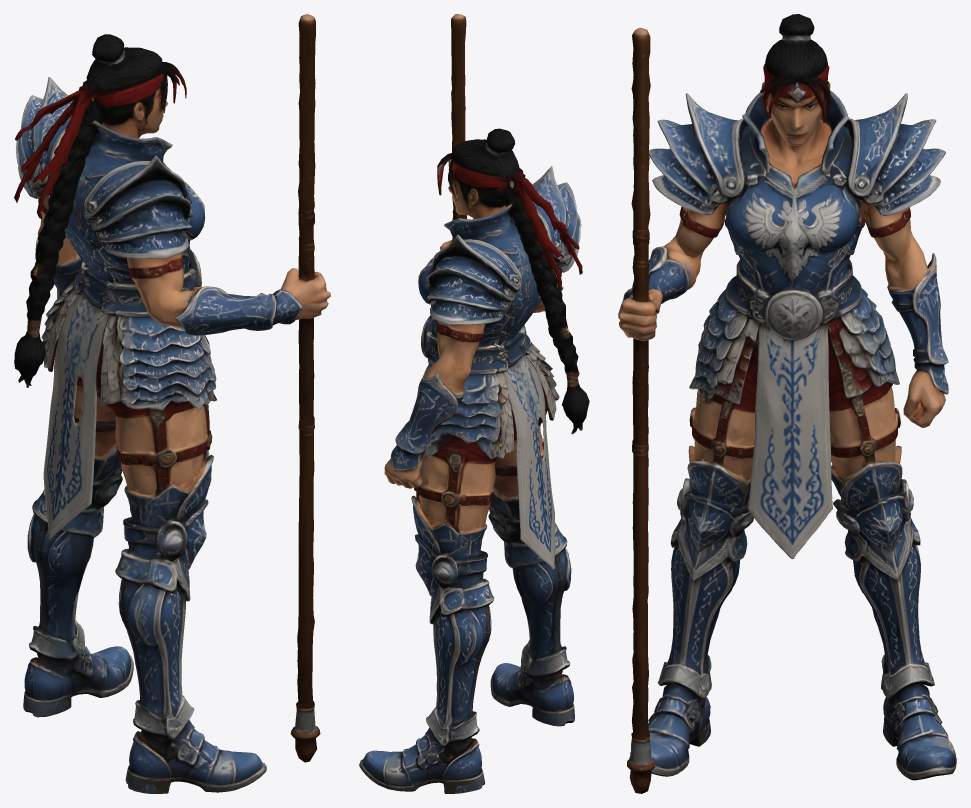
Rendered from vanguardalt_T7-tripo.glb.
3 renders of one model, left to right at view 1: azimuth 30°, elevation 25°; view 2: azimuth 150°, elevation 25°; view 3: azimuth 270°, elevation 25°, orthographic. The views are drawn at different scales.
Parts seen in each view (by area): view 1: tripo_node_8c85b547-705c-4be3-aa9c-8cc4a09f96f6; view 2: tripo_node_8c85b547-705c-4be3-aa9c-8cc4a09f96f6; view 3: tripo_node_8c85b547-705c-4be3-aa9c-8cc4a09f96f6.
Part boxes in pixels (x1,y1,x2,y2): tripo_node_8c85b547-705c-4be3-aa9c-8cc4a09f96f6: [14, 14, 330, 793]; tripo_node_8c85b547-705c-4be3-aa9c-8cc4a09f96f6: [359, 14, 589, 793]; tripo_node_8c85b547-705c-4be3-aa9c-8cc4a09f96f6: [618, 14, 956, 793].
Bounding box in the file's own units: 0.3314 × 1 × 0.3952.
Materials: 1 (1 with a texture image).
